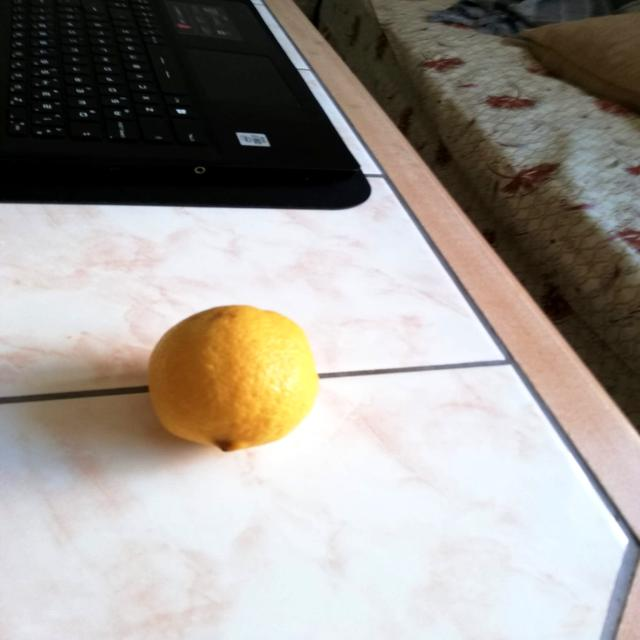lemon: (132, 295, 336, 461)
